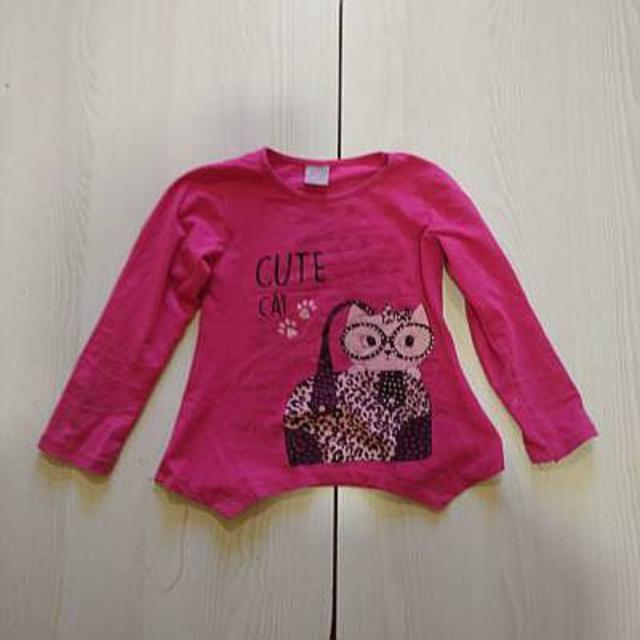T_SHIRT: (23, 141, 623, 523)
